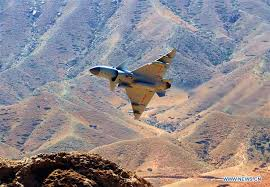fighter: (85, 47, 179, 123)
